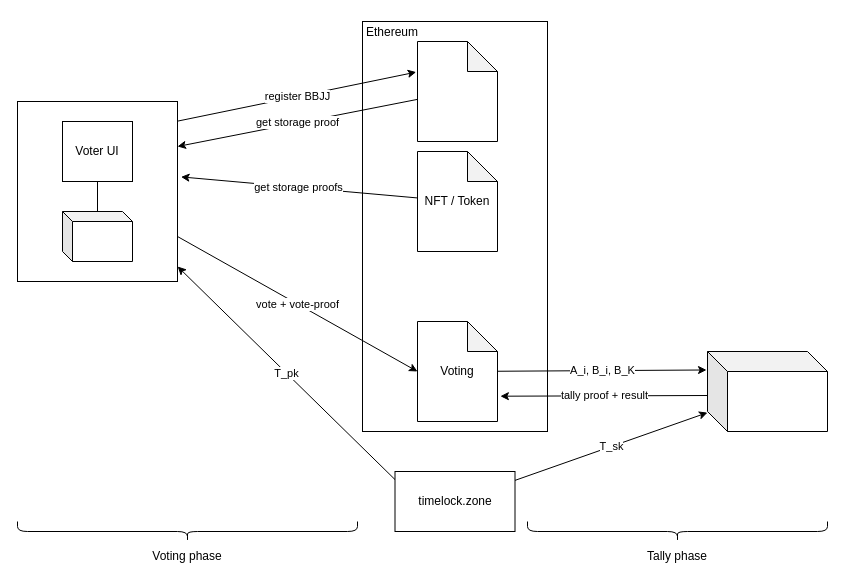
Image size: 845x588. Some labels were removed from this diagram. Each missing label, with the centre of its shape:
"Tally CLI" belongs at (767,391).
"Voter Backend" belongs at (97,236).
"zkRegistry" belongs at (457,91).
